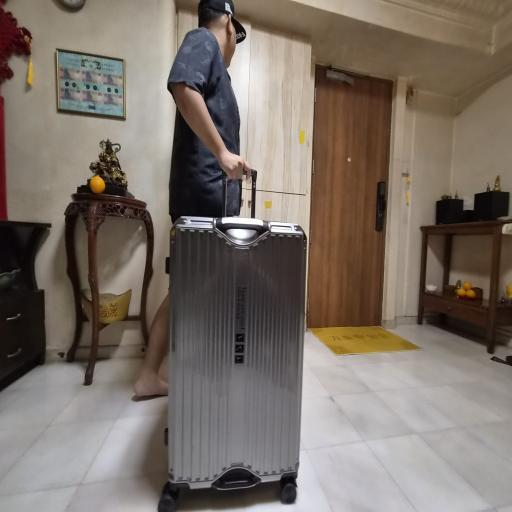person_right: (148, 5, 304, 506)
